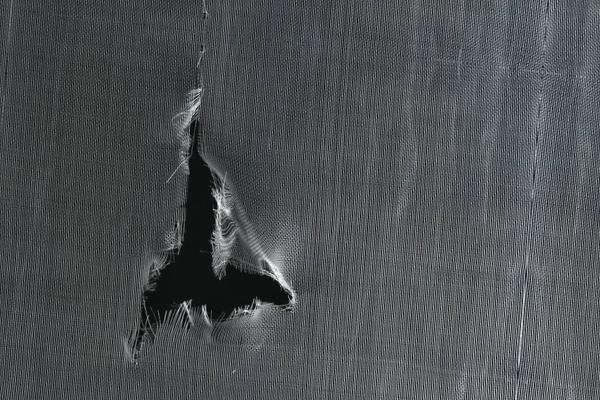hole: (122, 77, 304, 362)
